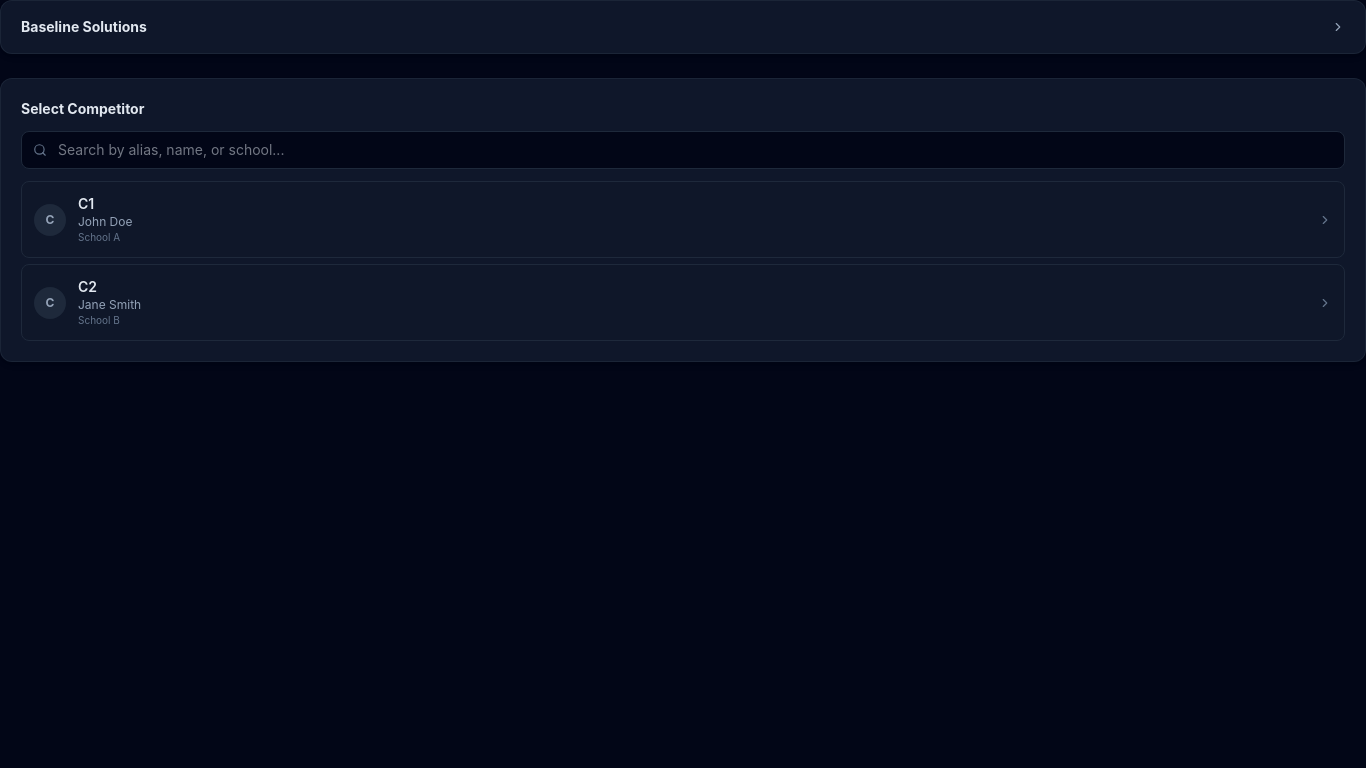
Test: SubmissionsView Page › Admin/Jury view › requests and renders only the selected competitor submissions for every task
Expected: the text "C1" is shown, [78,195,94,212]
Click the button "C C1 John Doe School A": [50, 220] box [21,181,1345,258]
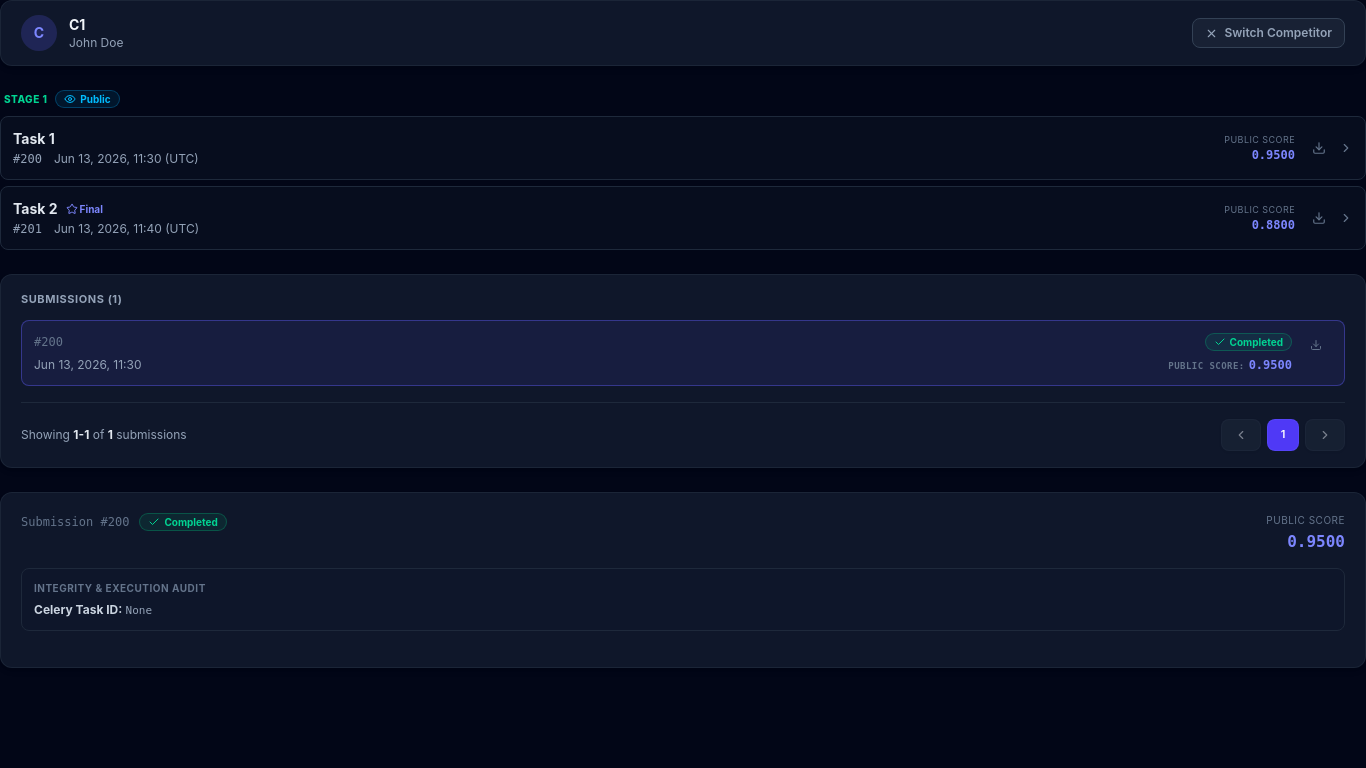
Now the text "Task 1" is shown, box [13,129,55,149]
Now the text "Task 2" is shown, box [13,199,58,219]
Now the text "#200" below "Stage 1" is shown, box [13,151,42,167]
